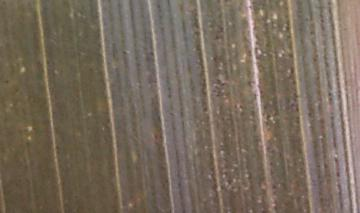tarspot: (153, 133, 160, 140), (122, 49, 128, 57), (319, 17, 325, 25), (327, 91, 333, 97), (5, 78, 10, 85), (149, 51, 154, 57)
